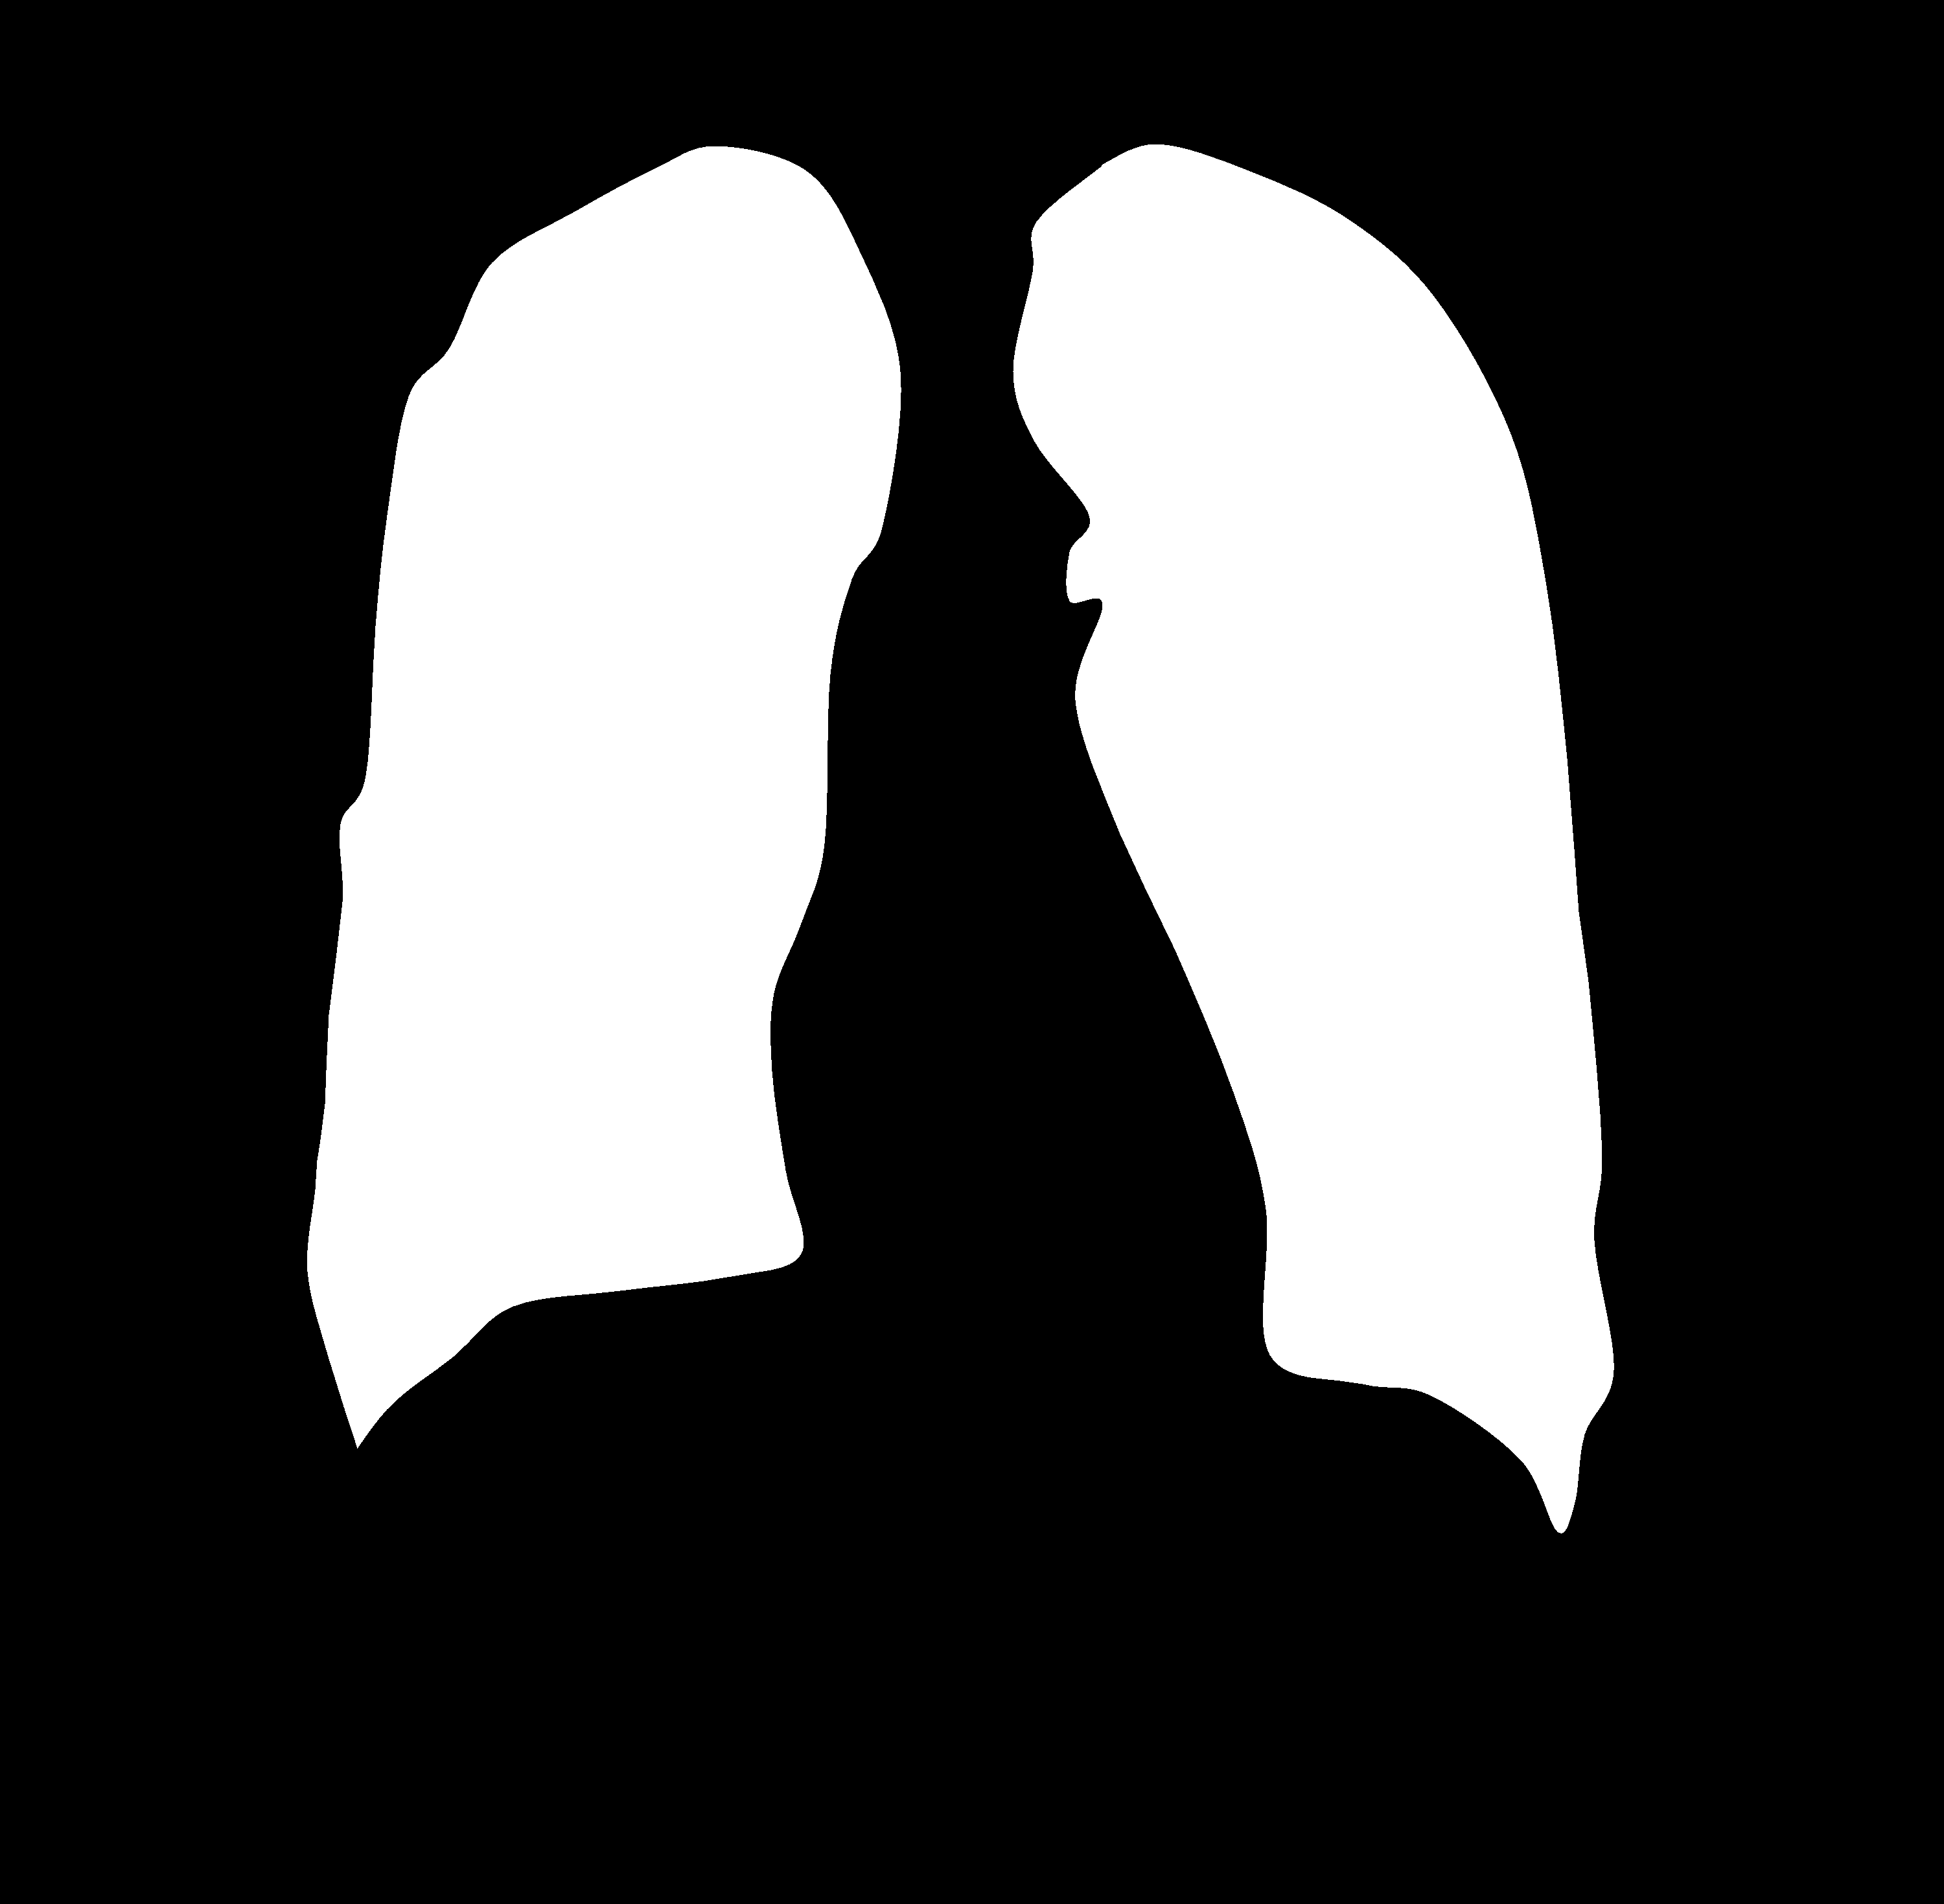heart: (760, 872, 1280, 1419)
left_lung: (307, 146, 901, 1447)
right_lung: (1013, 145, 1614, 1533)
